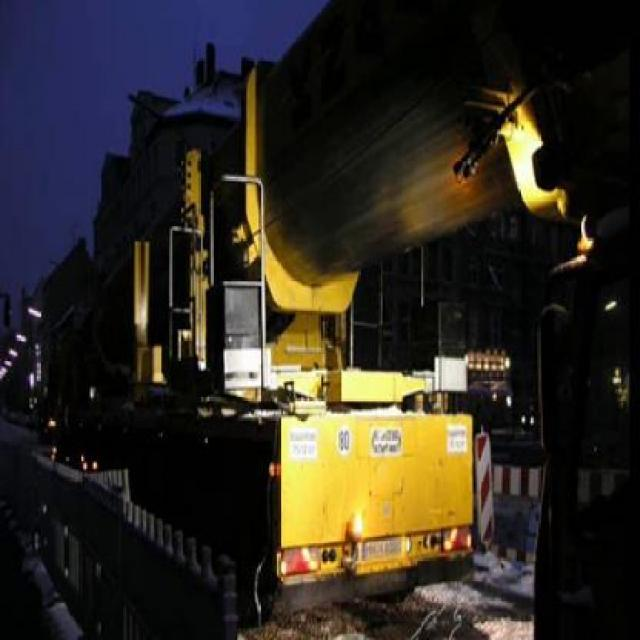Mobile Crane: (25, 0, 505, 598)
